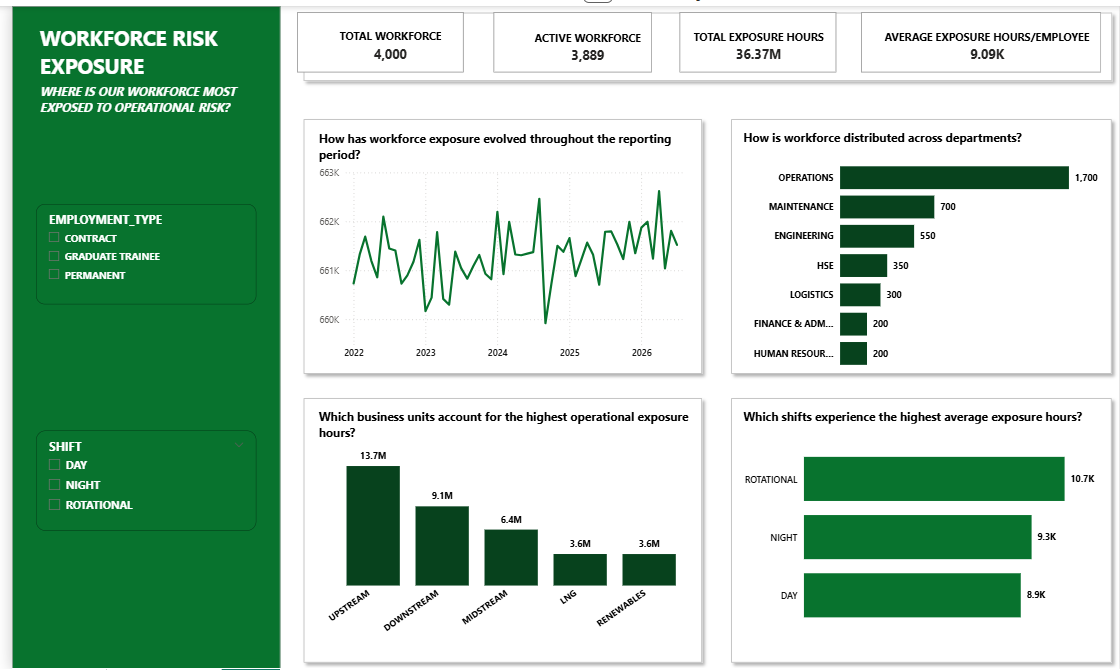

Layout of this report page (visuals, bound fields, positions):
{"tool":"powerbi","page":{"name":"WORKFORCE RISK EXPOSURE","canvas":[1500,900],"ordinal":0},"visuals":[{"type":"shape","box":[965.6,522.6,533.7,376.5],"z":0},{"type":"shape","box":[0,0,363.9,898.7],"z":1000},{"type":"shape","box":[385.3,522.6,558.1,376.5],"z":2000},{"type":"shape","box":[385.3,0,1113.9,110.7],"z":3000},{"type":"shape","box":[653.3,8.9,214.8,81.9],"z":4000},{"type":"shape","box":[385.3,8.9,225.9,81.9],"z":5000},{"type":"shape","box":[385.3,143.9,558.1,363.2],"z":6000},{"type":"shape","box":[965.6,143.9,533.7,363.2],"z":7000},{"type":"shape","box":[905.8,8.9,212.6,81.9],"z":8000},{"type":"shape","box":[1151.6,8.9,325.5,81.9],"z":9000},{"type":"cardVisual","fields":{"Data":["DIM_ASSET.TOTAL EXPOSURE HOURS"]},"box":[892.5,8.9,239.2,90.8],"z":10000},{"type":"cardVisual","fields":{"Data":["DIM_ASSET.TOTAL WORKFORCE"]},"box":[400.8,4.4,225.9,99.7],"z":11000},{"type":"cardVisual","fields":{"Data":["DIM_ASSET.AVERAGE EXPOSURE HOURS/EMPLOYEE"]},"box":[1144.9,0,354.3,108.5],"z":12000},{"type":"cardVisual","fields":{"Data":["DIM_ASSET.ACTIVE WORKFORCE"]},"box":[668.8,17.7,223.7,75.3],"z":13000},{"type":"clusteredBarChart","title":"How is workforce distributed across departments?","fields":{"Category":["DIM_DEPARTMENT.DEPARTMENT"],"Y":["DIM_ASSET.TOTAL WORKFORCE"]},"box":[985.5,166.1,491.6,341],"z":14000},{"type":"clusteredColumnChart","title":"Which business units account for the highest operational exposure hours?","fields":{"Category":["DIM_BUSINESSUNIT.BUSINESS_UNIT"],"Y":["DIM_ASSET.TOTAL EXPOSURE HOURS"]},"box":[409.7,544.8,533.7,323.3],"z":15000},{"type":"clusteredBarChart","title":"Which shifts experience the highest average exposure hours?","fields":{"Y":["DIM_ASSET.AVERAGE EXPOSURE HOURS/EMPLOYEE"],"Category":["DIM_SHIFT.SHIFT"]},"box":[985.5,544.8,491.6,323.3],"z":16000},{"type":"lineChart","title":"How has workforce exposure  evolved throughout the reporting period?","fields":{"Y":["DIM_ASSET.TOTAL EXPOSURE HOURS"],"Category":["DIM_DATE.DATE.Variation.Date Hierarchy.Year","DIM_DATE.DATE.Variation.Date Hierarchy.Month"]},"box":[409.7,168.3,509.4,318.9],"z":17000},{"type":"slicer","fields":{"Values":["DIM_EMPLOYEE.EMPLOYMENT_TYPE"]},"box":[32.5,189.1,298.9,136.2],"z":18000},{"type":"slicer","fields":{"Values":["DIM_SHIFT.SHIFT"]},"box":[32.5,575.4,298.9,136.2],"z":19000},{"type":"textbox","title":"WORKFORCE RISK EXPOSURE","box":[32.5,24.4,280.6,185],"z":20000}]}

Visuals, with their boxes in screenshot pixels (x1, y1, x2, y2), scaled from the page's 1500x900 canvas onto the 1120x670 screenshot:
shape: <region>721, 389, 1119, 669</region>
shape: <region>0, 0, 272, 669</region>
shape: <region>288, 389, 704, 669</region>
shape: <region>288, 0, 1119, 82</region>
shape: <region>488, 7, 648, 68</region>
shape: <region>288, 7, 456, 68</region>
shape: <region>288, 107, 704, 378</region>
shape: <region>721, 107, 1119, 378</region>
shape: <region>676, 7, 835, 68</region>
shape: <region>860, 7, 1103, 68</region>
cardVisual - DIM_ASSET.TOTAL EXPOSURE HOURS: <region>666, 7, 845, 74</region>
cardVisual - DIM_ASSET.TOTAL WORKFORCE: <region>299, 3, 468, 77</region>
cardVisual - DIM_ASSET.AVERAGE EXPOSURE HOURS/EMPLOYEE: <region>855, 0, 1119, 81</region>
cardVisual - DIM_ASSET.ACTIVE WORKFORCE: <region>499, 13, 666, 69</region>
"How is workforce distributed across departments?" clusteredBarChart: <region>736, 124, 1103, 378</region>
"Which business units account for the highest operational exposure hours?" clusteredColumnChart: <region>306, 406, 704, 646</region>
"Which shifts experience the highest average exposure hours?" clusteredBarChart: <region>736, 406, 1103, 646</region>
"How has workforce exposure  evolved throughout the reporting period?" lineChart: <region>306, 125, 686, 363</region>
slicer - DIM_EMPLOYEE.EMPLOYMENT_TYPE: <region>24, 141, 247, 242</region>
slicer - DIM_SHIFT.SHIFT: <region>24, 428, 247, 530</region>
"WORKFORCE RISK EXPOSURE" textbox: <region>24, 18, 234, 156</region>
